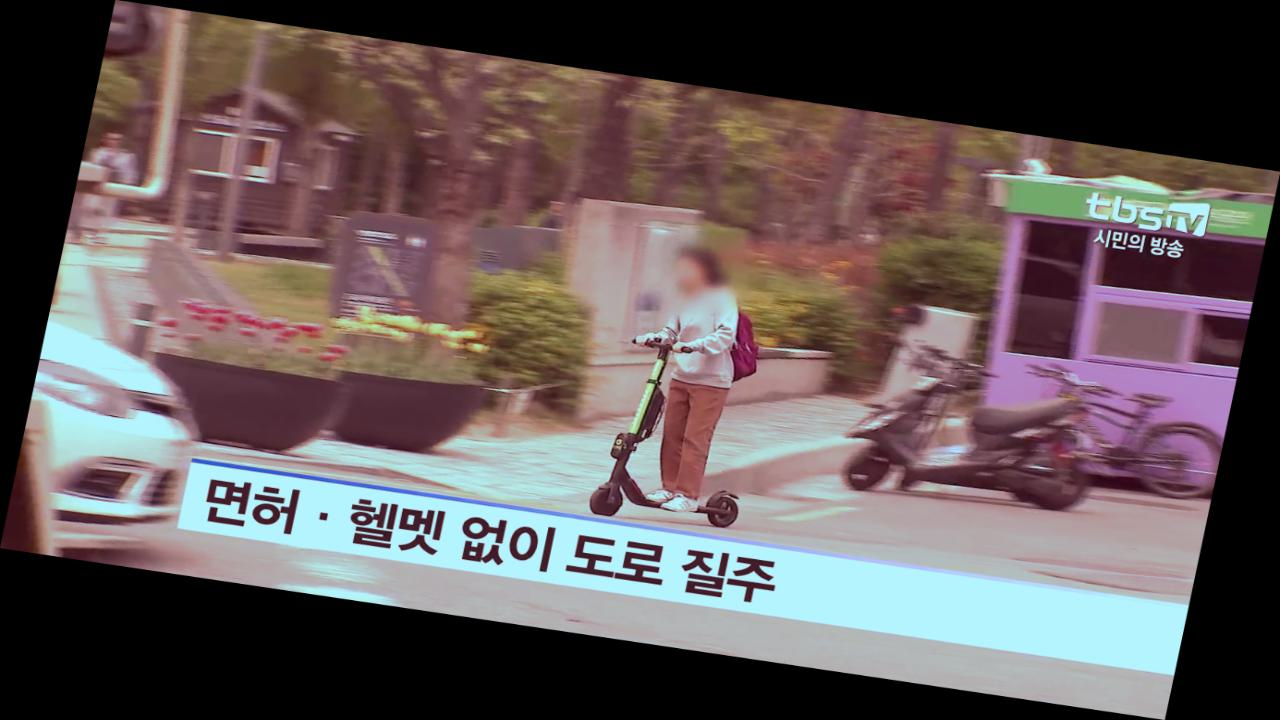nonhelmet: (581, 237, 800, 538)
